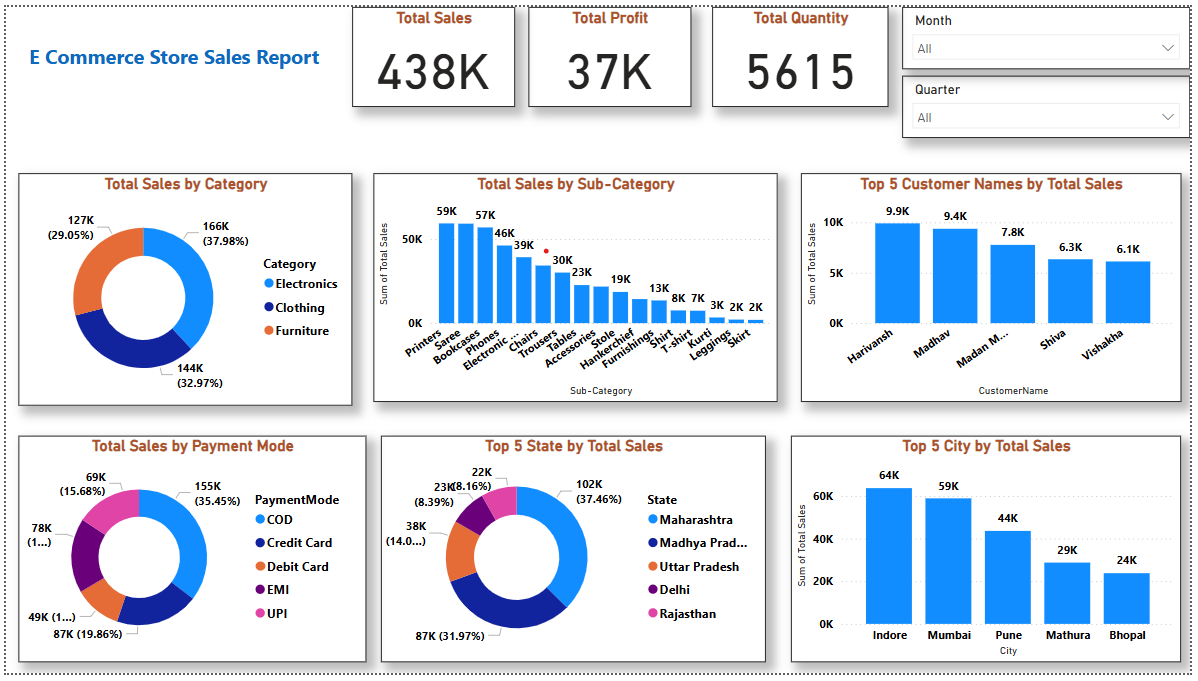

What the dashboard file says about the page in this screenshot:
{"tool":"powerbi","page":{"name":"Page 1","canvas":[1280,720],"ordinal":0},"visuals":[{"type":"card","title":"Total Sales","fields":{"Values":["Sum(data.Total Sales)"]},"box":[374.3,0,175.7,108.1],"z":0},{"type":"card","title":"Total Profit","fields":{"Values":["Sum(data.Profit)"]},"box":[564.9,0,175.7,108.1],"z":1000},{"type":"card","title":"Total Quantity","fields":{"Values":["Sum(data.Quantity)"]},"box":[763.5,0,190.5,108.1],"z":2000},{"type":"slicer","fields":{"Values":["data (2).Order Date.Variation.Date Hierarchy.Month"]},"box":[968.9,0,310.8,67.6],"z":3000},{"type":"slicer","fields":{"Values":["data (2).Order Date.Variation.Date Hierarchy.Quarter"]},"box":[968.9,74.3,310.8,67.6],"z":4000},{"type":"textbox","box":[0,33.8,363.5,54.1],"z":5000},{"type":"donutChart","title":"Total Sales by Category","fields":{"Y":["Sum(data.Total Sales)"],"Category":["data.Category"]},"box":[13.5,179.7,360.8,251.4],"z":6000},{"type":"donutChart","title":"Total Sales by Payment Mode","fields":{"Y":["Sum(data.Total Sales)"],"Series":["data.PaymentMode"]},"box":[13.5,463.5,375.7,244.6],"z":7000},{"type":"columnChart","title":"Total Sales by Sub-Category","fields":{"Category":["data.Sub-Category"],"Y":["Sum(data.Total Sales)"]},"box":[397.3,179.7,436.5,247.3],"z":8000},{"type":"donutChart","title":"Top 5 State by Total Sales ","fields":{"Y":["Sum(data.Total Sales)"],"Category":["data (2).State"]},"box":[405.4,463.5,416.2,244.6],"z":8001},{"type":"columnChart","title":"Top 5 Customer Names  by Total Sales ","fields":{"Category":["data (2).CustomerName"],"Y":["Sum(data.Total Sales)"]},"box":[859.5,179.7,410.8,247.3],"z":8002},{"type":"columnChart","title":"Top 5 City by Total Sales ","fields":{"Category":["data (2).City"],"Y":["Sum(data.Total Sales)"]},"box":[848.6,463.5,421.6,244.6],"z":8003}]}

Visuals, with their boxes in screenshot pixels (x1, y1, x2, y2), scaled from the page's 1280x720 canvas onto the 1198x681 screenshot:
"Total Sales" card: pyautogui.locateOnScreen(350, 0, 515, 102)
"Total Profit" card: pyautogui.locateOnScreen(529, 0, 693, 102)
"Total Quantity" card: pyautogui.locateOnScreen(715, 0, 893, 102)
slicer - data (2).Order Date.Variation.Date Hierarchy.Month: pyautogui.locateOnScreen(907, 0, 1197, 64)
slicer - data (2).Order Date.Variation.Date Hierarchy.Quarter: pyautogui.locateOnScreen(907, 70, 1197, 134)
textbox: pyautogui.locateOnScreen(0, 32, 340, 83)
"Total Sales by Category" donutChart: pyautogui.locateOnScreen(13, 170, 350, 408)
"Total Sales by Payment Mode" donutChart: pyautogui.locateOnScreen(13, 438, 364, 670)
"Total Sales by Sub-Category" columnChart: pyautogui.locateOnScreen(372, 170, 780, 404)
"Top 5 State by Total Sales " donutChart: pyautogui.locateOnScreen(379, 438, 769, 670)
"Top 5 Customer Names  by Total Sales " columnChart: pyautogui.locateOnScreen(804, 170, 1189, 404)
"Top 5 City by Total Sales " columnChart: pyautogui.locateOnScreen(794, 438, 1189, 670)
